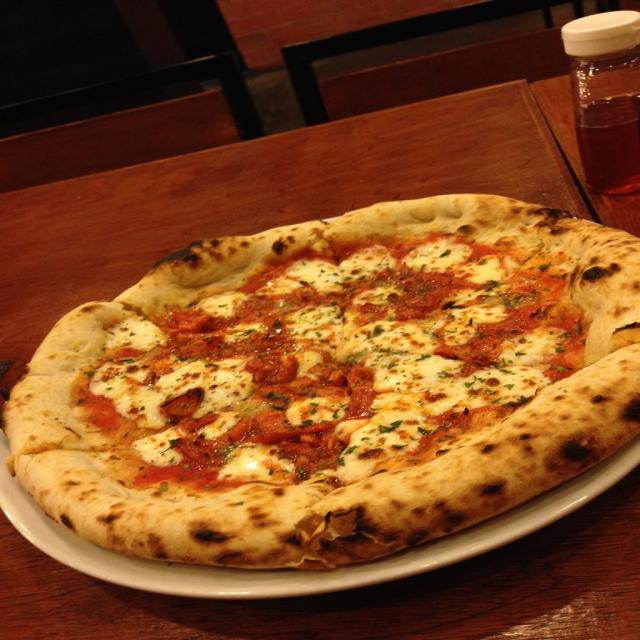Table: (0, 25, 639, 639)
